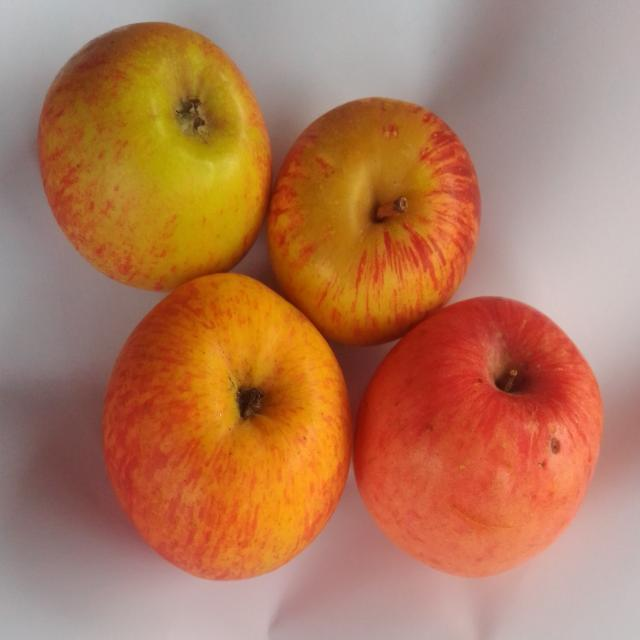Fresh Apple: (98, 270, 350, 590), (355, 292, 598, 582), (33, 13, 265, 272), (265, 95, 477, 322)
